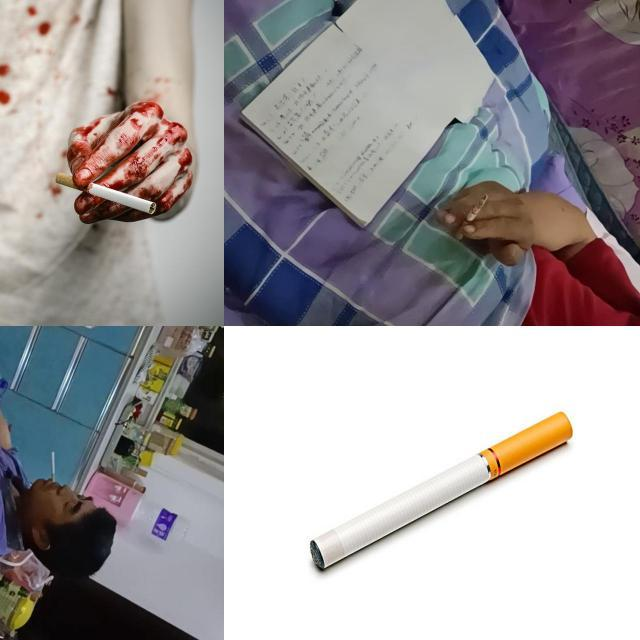smoke: (309, 410, 576, 570), (55, 170, 158, 216), (452, 192, 490, 242), (51, 451, 55, 482)
